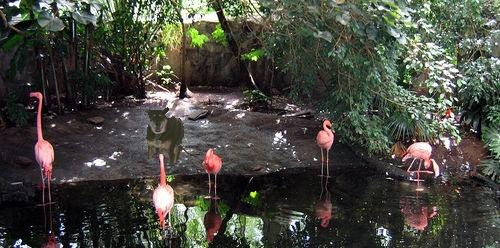tampered: (146, 108, 200, 163)
